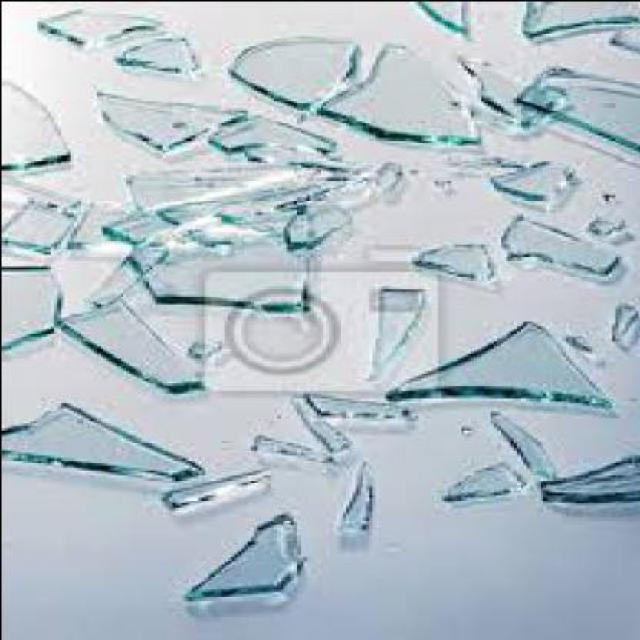glass: (404, 312, 608, 408), (322, 37, 486, 138), (3, 392, 203, 474), (138, 222, 316, 303), (69, 295, 205, 388), (185, 504, 306, 602), (165, 167, 332, 236), (518, 64, 638, 148), (232, 25, 368, 97), (88, 89, 243, 149), (131, 160, 286, 209), (503, 210, 625, 268), (466, 52, 552, 134), (362, 279, 440, 363), (3, 72, 69, 171), (472, 409, 558, 478), (92, 235, 168, 308), (538, 450, 638, 504), (270, 189, 356, 246), (3, 263, 60, 345), (3, 194, 82, 251), (411, 231, 494, 283), (524, 1, 638, 38), (40, 11, 165, 43), (309, 383, 417, 420), (231, 110, 326, 152), (164, 460, 276, 494), (440, 462, 526, 502), (338, 452, 384, 526), (506, 157, 582, 201), (295, 392, 351, 450), (247, 429, 336, 463), (119, 202, 188, 242), (128, 35, 200, 71), (3, 169, 69, 206), (280, 143, 352, 174), (330, 165, 376, 209), (415, 2, 474, 24), (382, 157, 408, 191), (584, 208, 628, 226), (614, 14, 638, 46), (614, 300, 634, 331), (564, 328, 590, 343)
